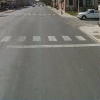crosswalk: (1, 35, 86, 40)
